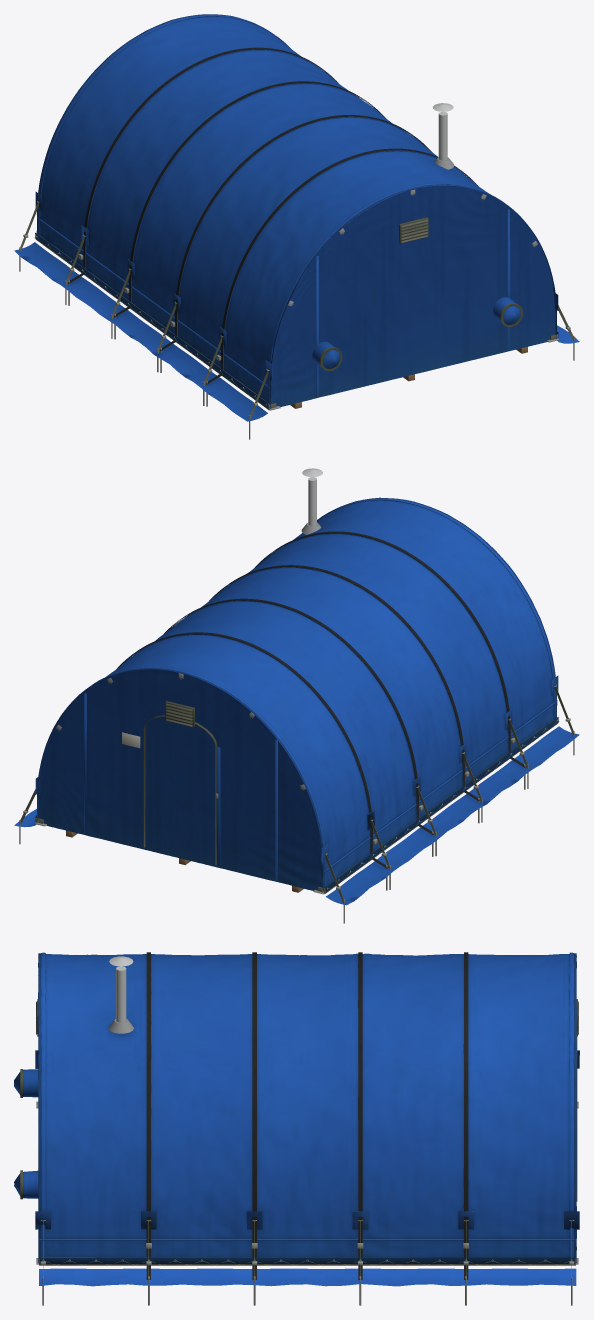
File: polarhaven-ar.glb
3 renders of one model, top to bottom at view 1: azimuth 30°, elevation 25°; view 2: azimuth 150°, elevation 25°; view 3: azimuth 270°, elevation 25°, orthographic. The views are drawn at different scales.
Parts seen in each view (by area): view 1: POLARHAVEN_shelter; view 2: POLARHAVEN_shelter; view 3: POLARHAVEN_shelter.
Part boxes in pixels (<box>): POLARHAVEN_shelter: <box>14,14,579,439</box>; POLARHAVEN_shelter: <box>14,468,579,923</box>; POLARHAVEN_shelter: <box>14,952,579,1305</box>.
Bounding box in the file's own units: 5.09 × 3.74 × 6.53.
Materials: 15 (6 with a texture image).
